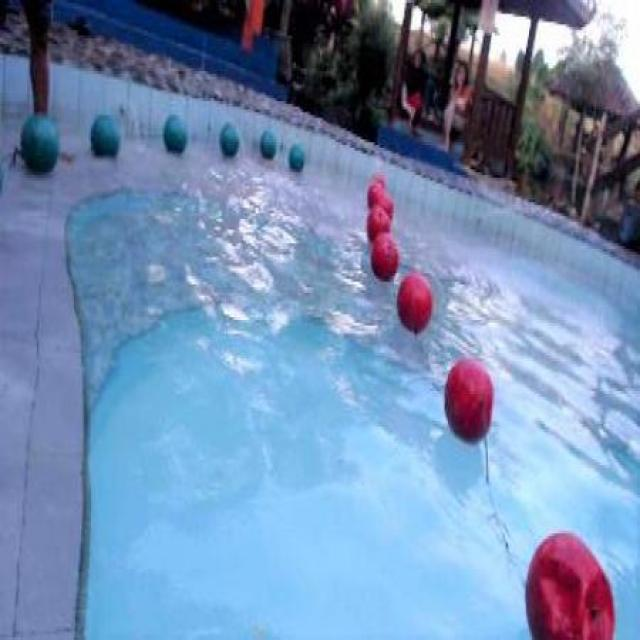buoy: (523, 529, 615, 636), (444, 357, 492, 442), (20, 109, 60, 175), (396, 270, 432, 332), (370, 232, 400, 282), (89, 113, 120, 160), (367, 202, 390, 246), (162, 111, 186, 152), (219, 122, 239, 157), (367, 180, 387, 208), (375, 192, 392, 222), (259, 127, 276, 157), (288, 145, 306, 172)
